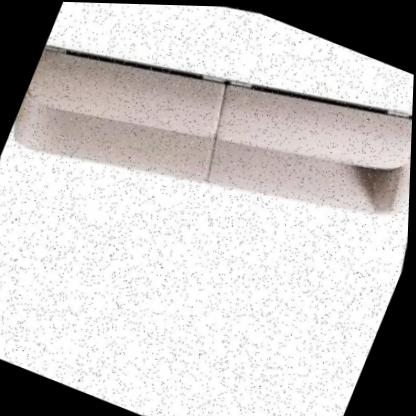Sofa: (0, 0, 416, 307)
